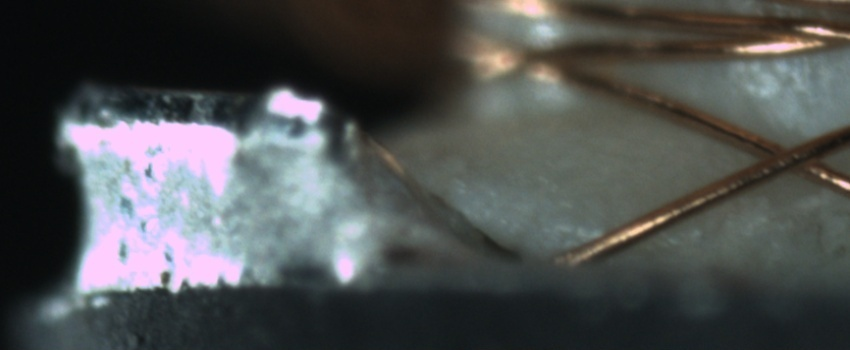CL: (741, 123, 842, 184)
